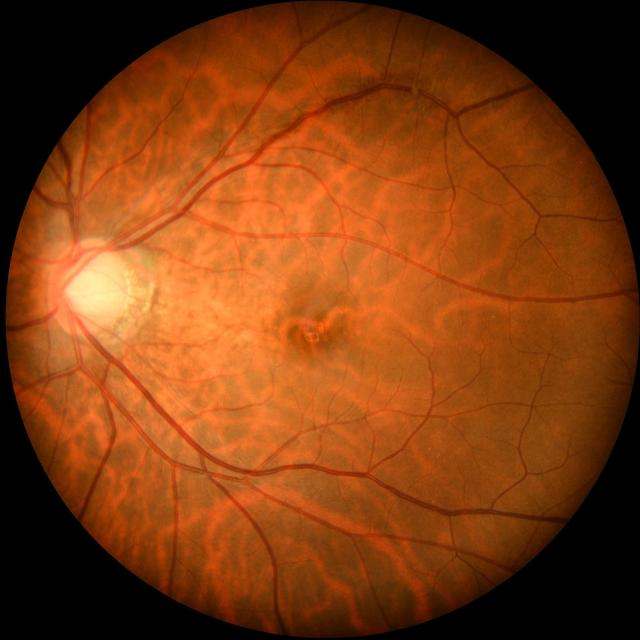OC: (64, 261, 119, 320)
OD: (48, 240, 127, 334)
